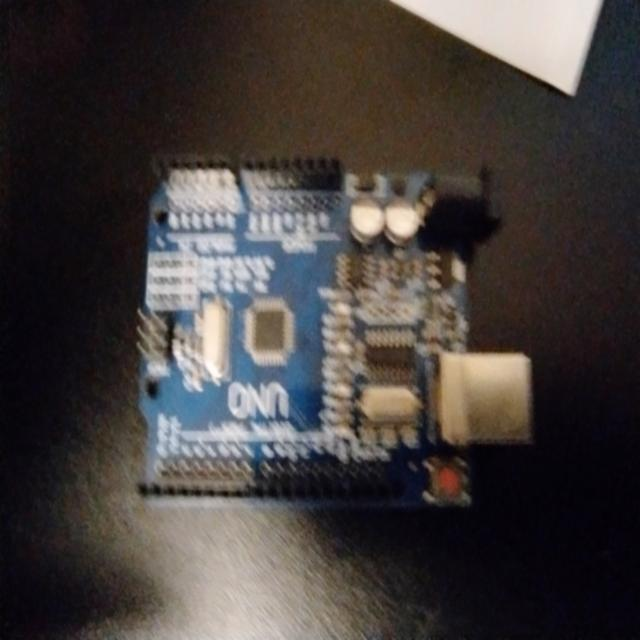arduino: (136, 152, 538, 524)
